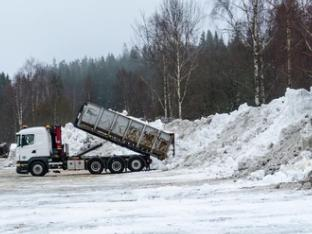vehicle: (16, 101, 174, 176)
